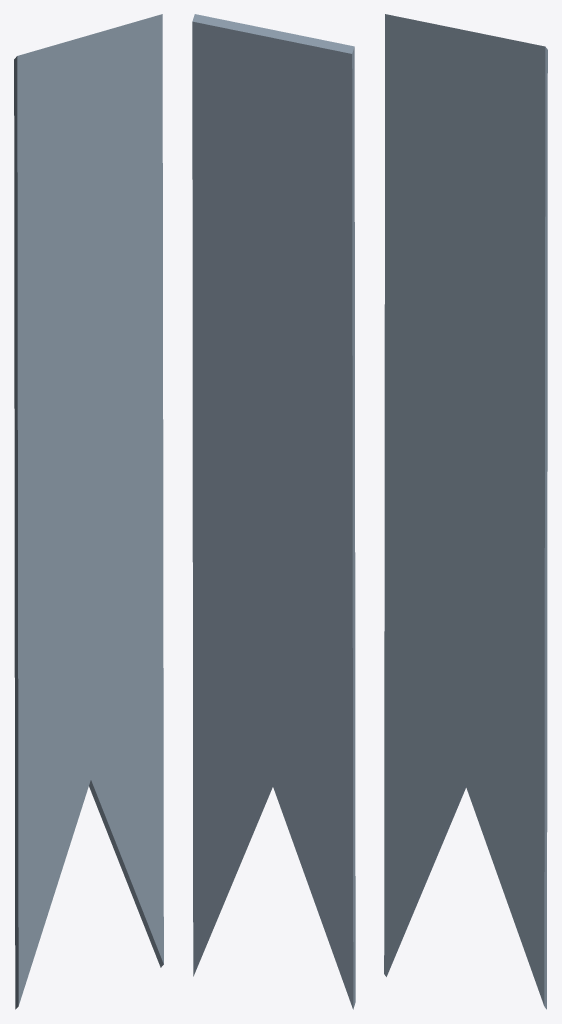
File: Banner_Blue.fbx
The picture shows the model from 3 angles, left to right: view 1: azimuth 30°, elevation 25°; view 2: azimuth 150°, elevation 25°; view 3: azimuth 330°, elevation 25°; orthographic projection.
Visible parts, largest first — view 1: Banner1; view 2: Banner1; view 3: Banner1.
Boxes of the visible parts, left/top/right/bottom form: Banner1: left=14, top=14, right=163, bottom=1009; Banner1: left=192, top=14, right=355, bottom=1009; Banner1: left=384, top=14, right=547, bottom=1009.
Bounding box in the file's own units: 1.3 × 7.76 × 0.1567.
